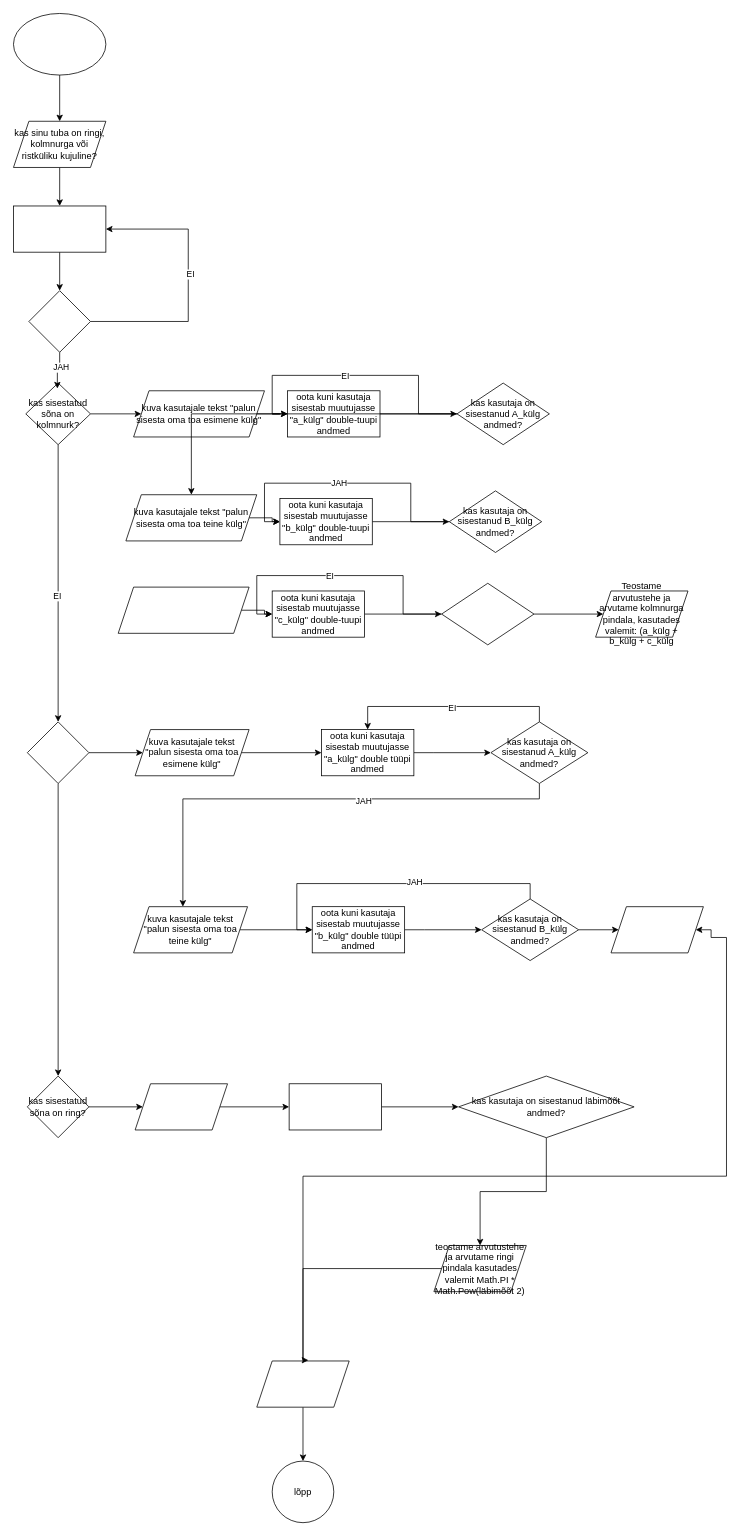
The diagram is 746 pixels wide and 1536 high, and some of its shapes have lost their labels. Each missing label, with the box of its shape:
Algus: (13, 13, 106, 75)
kas kasutaja on sisestanud C_külg andmed?: (441, 583, 534, 645)
kas kasutaja on sisestanud midagi?: (28, 290, 90, 352)
kas sisestatud sõna on ristkülik?: (27, 721, 89, 783)
kuva kasutajal tekst "palun sisesta oma toa läbimõõt": (134, 1083, 228, 1130)
kuva kasutajale tekst "palun sisesta oma toa kolmas külg": (117, 586, 249, 633)
kuvame kasutajale tulemus laussega"sinu toa pindala on {tulemus}: (256, 1360, 349, 1407)
oota kuni kasutaja sisestab muutujasse "läbimõõt" double-tüüpi andmed: (288, 1083, 382, 1130)
ootame kuni kasutaja sisestab muutujase "kujund" vastuse: (13, 205, 106, 252)
Teostame arvutustehe ja arvutame ristküliku pindala "a_külg * b_külg": (610, 906, 703, 953)
